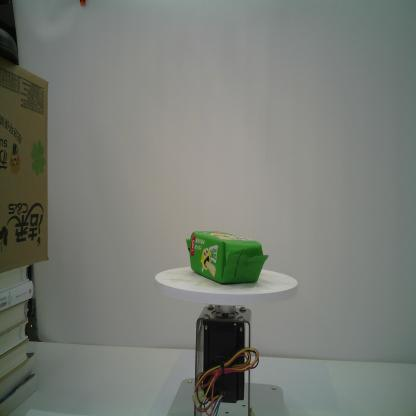Dessert: (186, 231, 269, 284)
